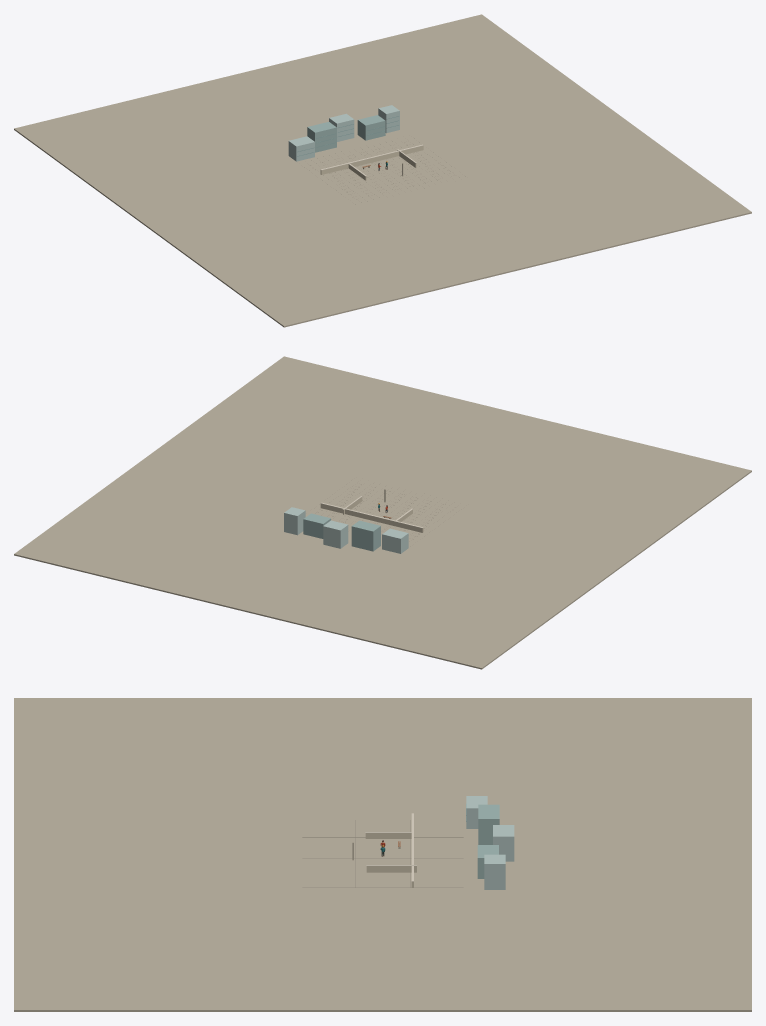
Rendered from two-people.glb.
The picture shows the model from 3 angles, top to bottom: view 1: azimuth 30°, elevation 25°; view 2: azimuth 150°, elevation 25°; view 3: azimuth 270°, elevation 25°; orthographic projection. The views are drawn at different scales.
Visible parts, largest first — view 1: テラスと街並み; view 2: テラスと街並み; view 3: テラスと街並み.
Part boxes in pixels (<box>): テラスと街並み: <box>14,14,751,327</box>; テラスと街並み: <box>14,356,751,669</box>; テラスと街並み: <box>14,698,751,1011</box>.
Bounding box in the file's own units: 110 × 4.81 × 110.
